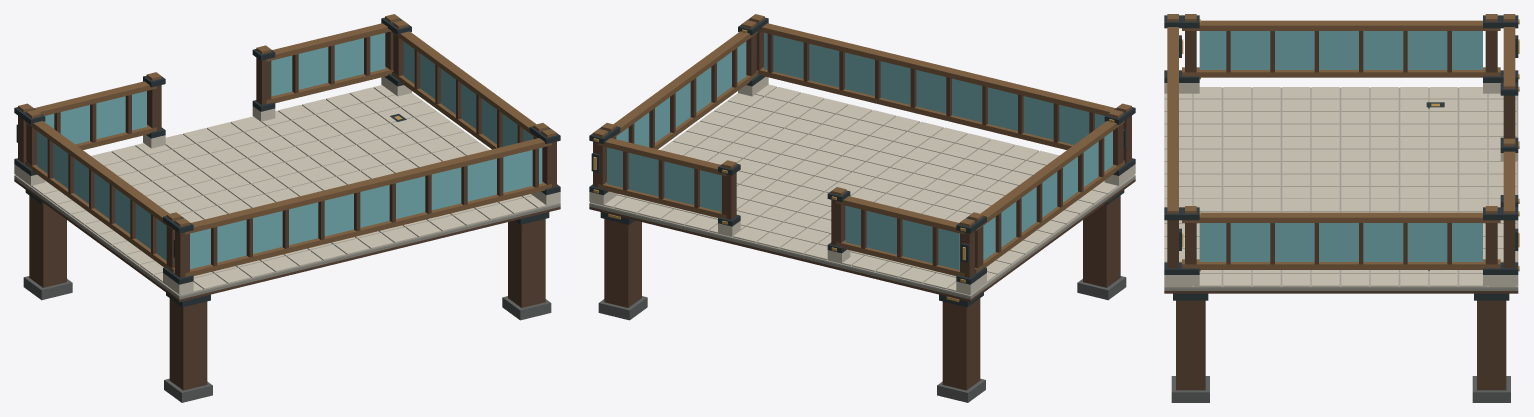
Rendered from BUILT-091.glb.
3 renders of one model, left to right at view 1: azimuth 30°, elevation 25°; view 2: azimuth 150°, elevation 25°; view 3: azimuth 270°, elevation 25°, orthographic. The views are drawn at different scales.
Visible parts, largest first — view 1: 天枢顶层开放观景层; view 2: 天枢顶层开放观景层; view 3: 天枢顶层开放观景层.
Part boxes in pixels (x1,y1,x2,y2): 天枢顶层开放观景层: (14, 14, 560, 402); 天枢顶层开放观景层: (589, 14, 1135, 402); 天枢顶层开放观景层: (1164, 14, 1519, 402).
Bounding box in the file's own units: 6.4 × 2.9 × 4.82.
10 materials, 10 textured.
